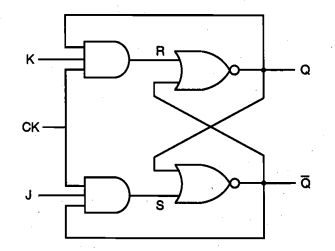and: (76, 169, 134, 217), (77, 36, 133, 82)
or: (171, 45, 245, 96), (171, 161, 246, 207)
